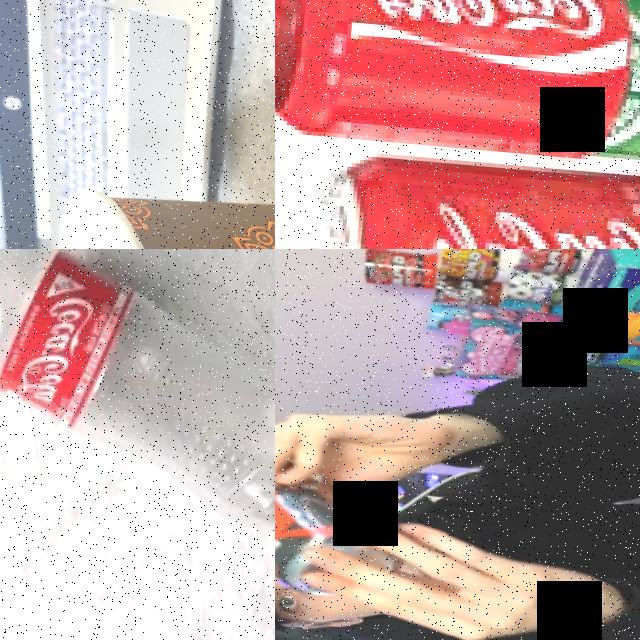bottle: (0, 249, 275, 531)
can: (275, 0, 640, 175), (306, 146, 640, 249), (275, 438, 406, 601)
cup: (37, 175, 275, 249)
